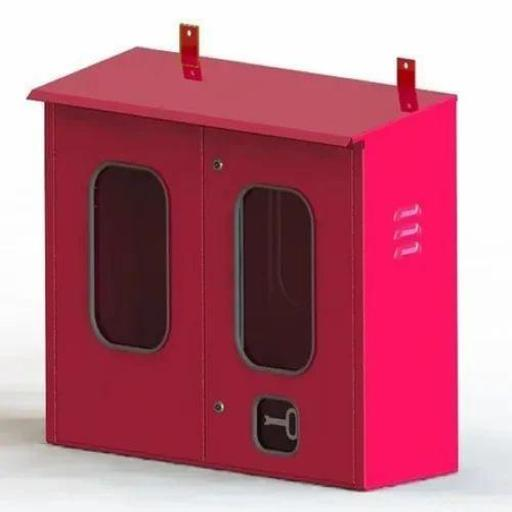fire_hose: (23, 16, 476, 501)
